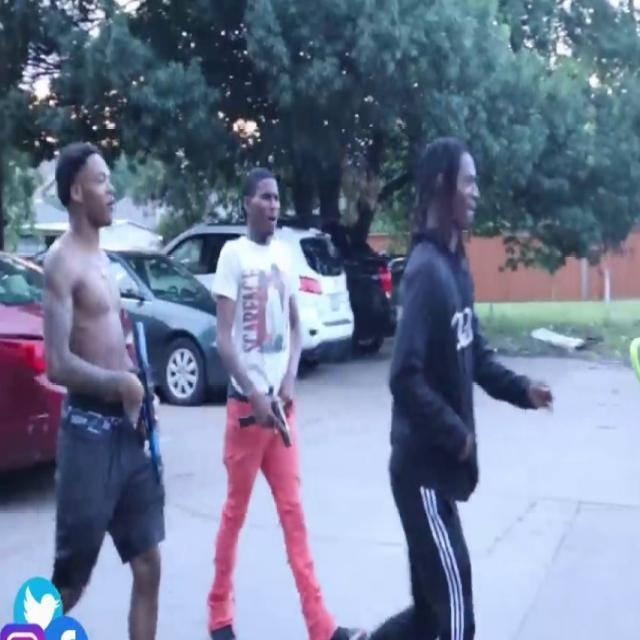Handgun: (240, 389, 294, 450)
Rifle: (118, 313, 168, 491)
